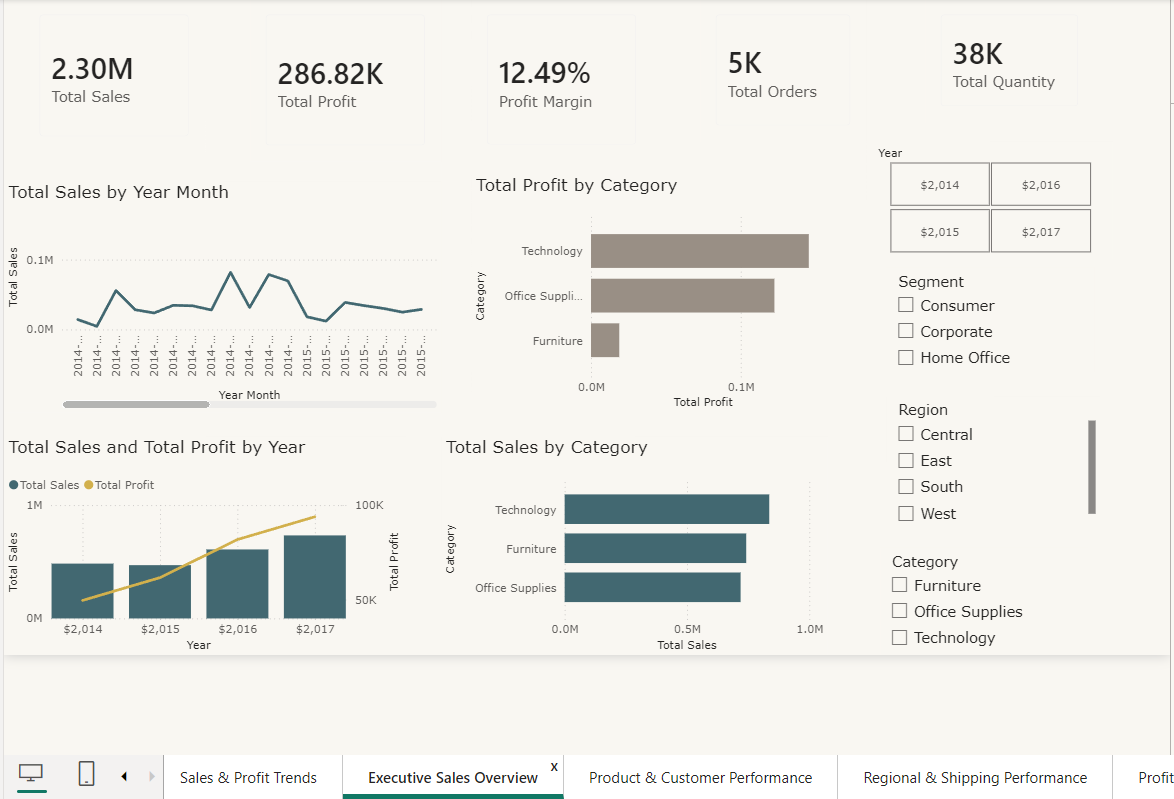

The page's visual inventory and layout, read from the dashboard file:
{"tool":"powerbi","page":{"name":"Executive Sales Overview","canvas":[1280,720],"ordinal":1},"visuals":[{"type":"cardVisual","fields":{"Data":["_Measures.Total Sales"]},"box":[22,0,199,168.8],"z":0},{"type":"cardVisual","fields":{"Data":["_Measures.Total Quantity"]},"box":[1011.3,0,185.2,135.8],"z":1000},{"type":"cardVisual","fields":{"Data":["_Measures.Total Orders"]},"box":[764.3,0,182.5,156.4],"z":2000},{"type":"cardVisual","fields":{"Data":["_Measures.Profit Margin"]},"box":[513.2,0,199,177],"z":3000},{"type":"cardVisual","fields":{"Data":["_Measures.Total Profit"]},"box":[270.3,0,209.9,178.4],"z":4000},{"type":"lineChart","fields":{"Category":["DateTable.Year Month"],"Y":["_Measures.Total Sales"]},"box":[0,200.3,480.3,253.9],"z":5000},{"type":"lineClusteredColumnComboChart","fields":{"Category":["DateTable.Year"],"Y":["_Measures.Total Sales"],"Y2":["_Measures.Total Profit"]},"box":[0,480.3,441.9,240.1],"z":6000},{"type":"clusteredBarChart","fields":{"Category":["vw_Sales_Category.Category"],"Y":["_Measures.Total Sales"]},"box":[480.3,480.3,424,240.1],"z":7000},{"type":"barChart","fields":{"Category":["vw_Sales_Category.Category"],"Y":["_Measures.Total Profit"]},"box":[513.2,192.1,397.9,262.1],"z":8000},{"type":"slicer","fields":{"Values":["DateTable.Year"]},"box":[946.8,156.4,270.3,129],"z":9000},{"type":"slicer","fields":{"Values":["vw_Sales_Clean.Segment"]},"box":[968.8,295,227.8,129],"z":10000},{"type":"slicer","fields":{"Values":["vw_Sales_Region.Region"]},"box":[968.8,436.4,234.6,145.5],"z":11000},{"type":"slicer","fields":{"Values":["vw_Sales_Clean.Category"]},"box":[961.9,602.4,227.8,118],"z":12000}]}

Visuals, with their boxes on the page's 1280x720 design canvas (x1, y1, x2, y2). These are canvas units, not pixel positions in the 1174x799 screenshot, which may show the page scaled, cropped or inside an application window:
cardVisual - _Measures.Total Sales: 22/0/221/169
cardVisual - _Measures.Total Quantity: 1011/0/1196/136
cardVisual - _Measures.Total Orders: 764/0/947/156
cardVisual - _Measures.Profit Margin: 513/0/712/177
cardVisual - _Measures.Total Profit: 270/0/480/178
lineChart - DateTable.Year Month x _Measures.Total Sales: 0/200/480/454
lineClusteredColumnComboChart - DateTable.Year x _Measures.Total Sales: 0/480/442/720
clusteredBarChart - vw_Sales_Category.Category x _Measures.Total Sales: 480/480/904/720
barChart - vw_Sales_Category.Category x _Measures.Total Profit: 513/192/911/454
slicer - DateTable.Year: 947/156/1217/285
slicer - vw_Sales_Clean.Segment: 969/295/1197/424
slicer - vw_Sales_Region.Region: 969/436/1203/582
slicer - vw_Sales_Clean.Category: 962/602/1190/720
